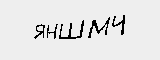М: (88, 16, 108, 37)
Н: (45, 22, 58, 39)
Ч: (111, 13, 127, 37)
Ш: (59, 21, 84, 39)
Я: (32, 22, 46, 39)
